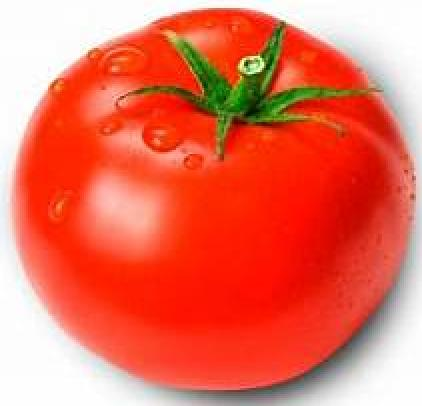tomato: (12, 11, 414, 392)
